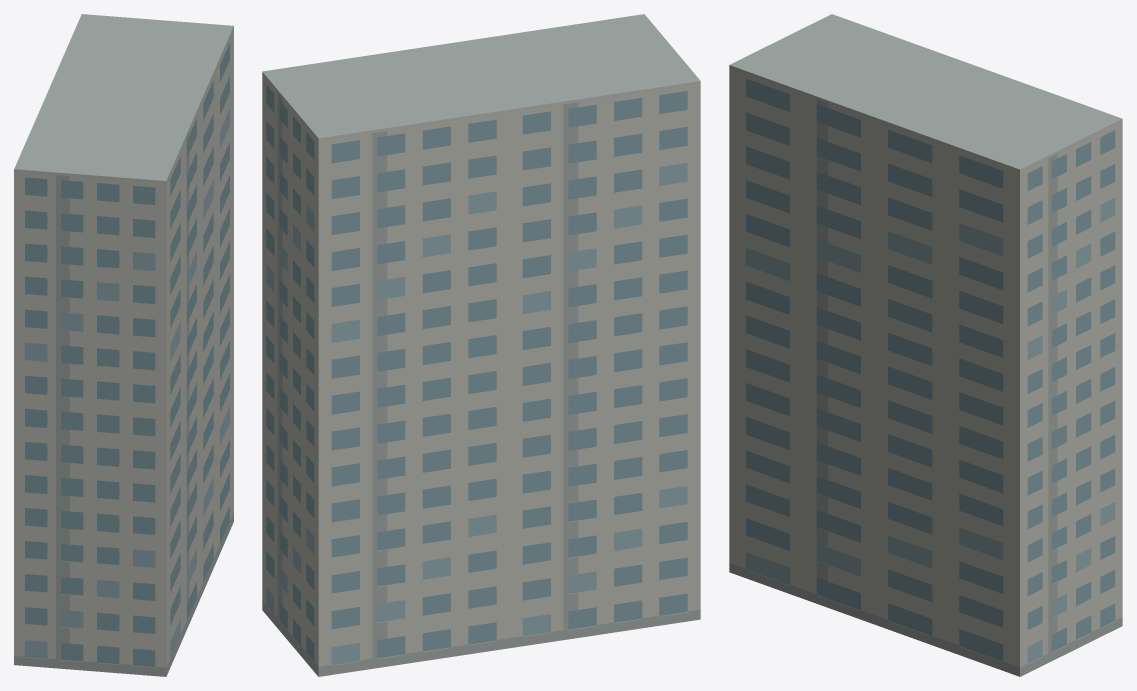
The model's file is residential-87d5d8de-d394-4dd8-827f-2fa796f8b3b7.glb.
3 renders of one model, left to right at view 1: azimuth 30°, elevation 25°; view 2: azimuth 150°, elevation 25°; view 3: azimuth 270°, elevation 25°, orthographic. The views are drawn at different scales.
Visible parts, largest first — view 1: residential-87d5d8de-d394-4dd8-827f-2fa796f8b3b7.tmp; view 2: residential-87d5d8de-d394-4dd8-827f-2fa796f8b3b7.tmp; view 3: residential-87d5d8de-d394-4dd8-827f-2fa796f8b3b7.tmp.
Boxes of the visible parts, bbox=[...] form: residential-87d5d8de-d394-4dd8-827f-2fa796f8b3b7.tmp: bbox=[14, 14, 233, 676]; residential-87d5d8de-d394-4dd8-827f-2fa796f8b3b7.tmp: bbox=[262, 14, 700, 676]; residential-87d5d8de-d394-4dd8-827f-2fa796f8b3b7.tmp: bbox=[729, 14, 1122, 676].
Size of the model in its own units: 29.62 by 45 by 31.65.
